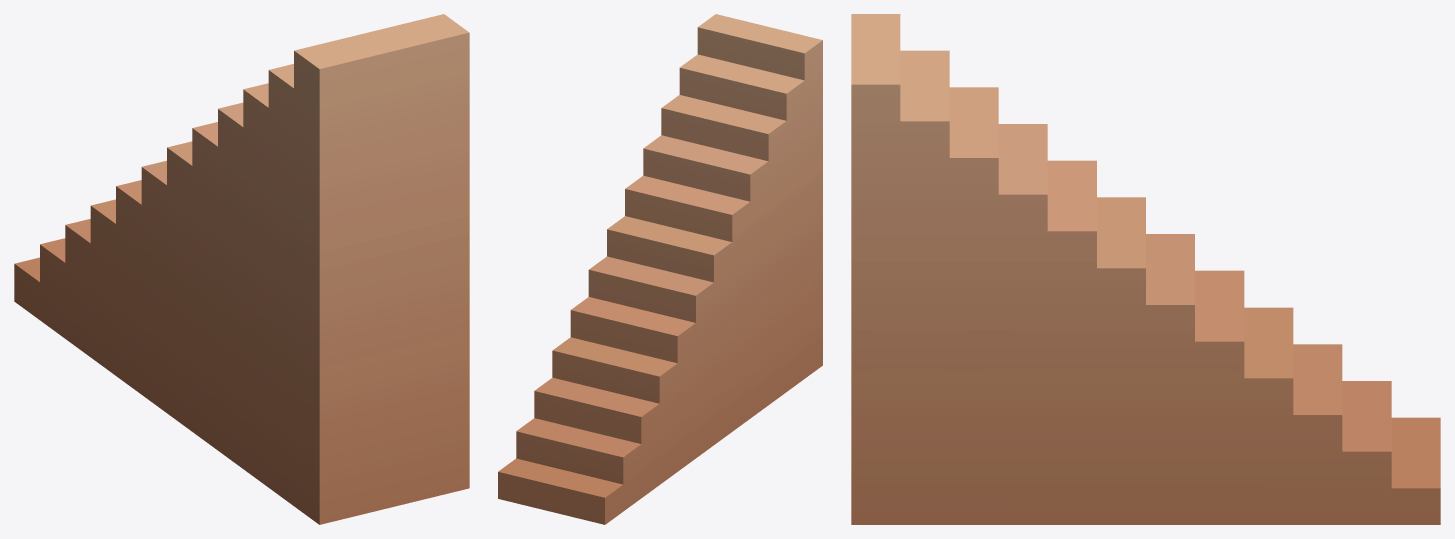
File: stairs-stone-square.glb
3 renders of one model, left to right at view 1: azimuth 30°, elevation 25°; view 2: azimuth 150°, elevation 25°; view 3: azimuth 270°, elevation 25°, orthographic. The views are drawn at different scales.
Parts seen in each view (by area): view 1: stairs-stone-square; view 2: stairs-stone-square; view 3: stairs-stone-square.
Boxes of the visible parts, <box> form: stairs-stone-square: <box>14,14,469,524</box>; stairs-stone-square: <box>498,14,822,524</box>; stairs-stone-square: <box>851,14,1440,524</box>.
Bounding box in the file's own units: 0.2325 × 0.675 × 0.819.
Materials: 1 (1 with a texture image).
